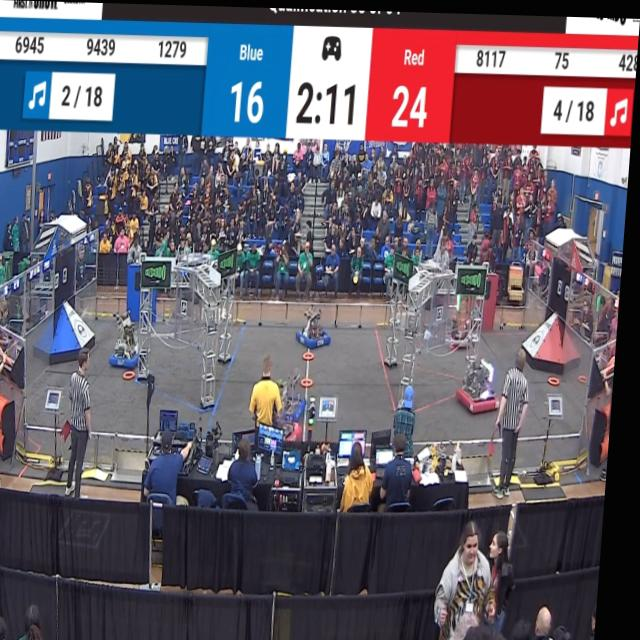Robot: (458, 346, 507, 416), (274, 364, 314, 446), (113, 312, 147, 371), (450, 287, 480, 350), (301, 301, 338, 351)
